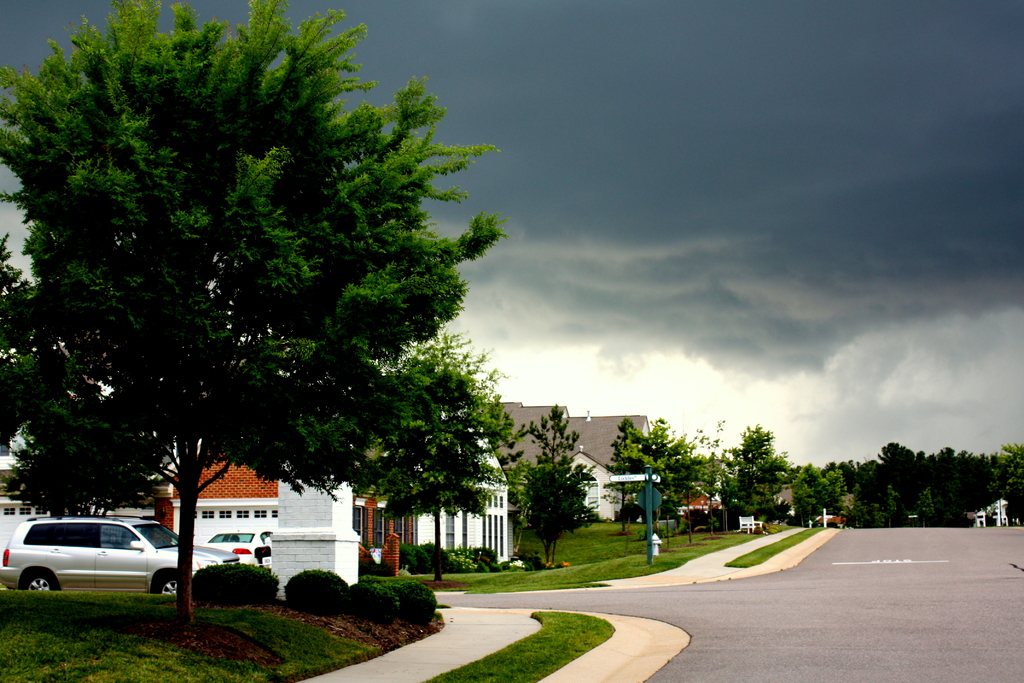cars: (0, 512, 239, 596), (204, 526, 271, 566)
